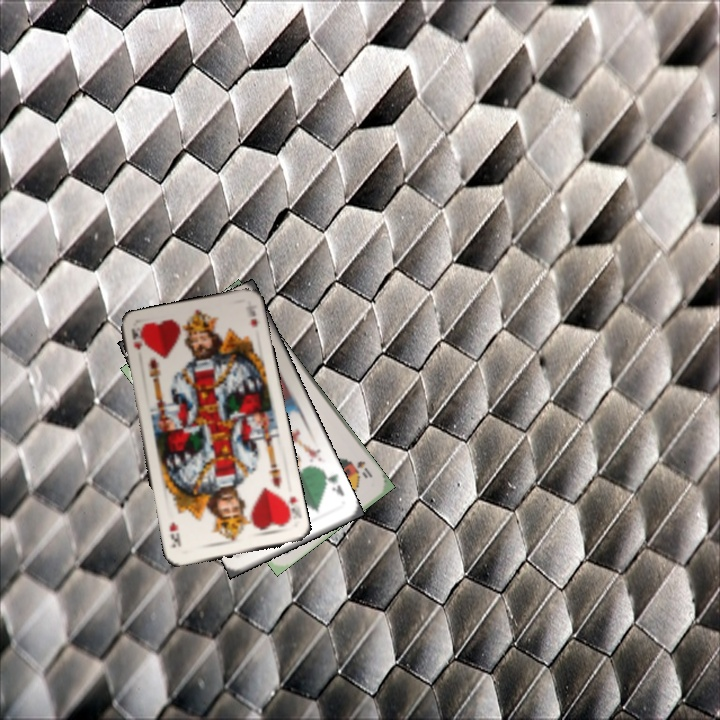GK: (320, 470, 347, 499)
HK: (280, 492, 299, 525), (127, 326, 144, 352)
SO: (346, 456, 375, 481)
